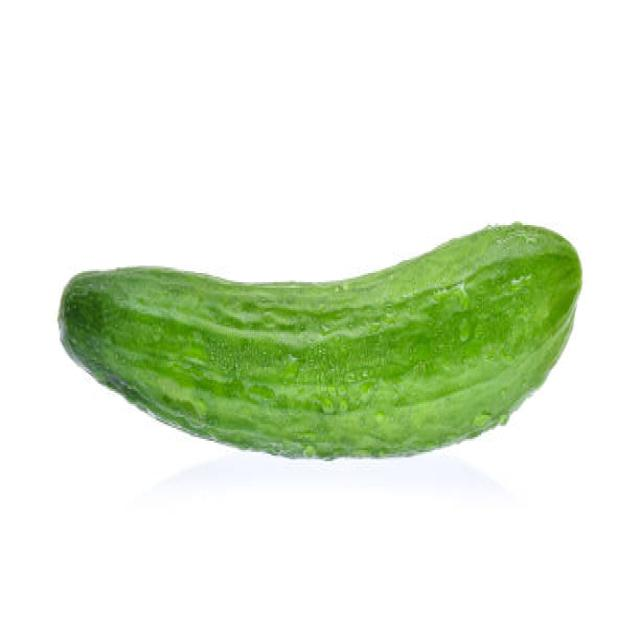cucumber: (59, 220, 581, 458)
